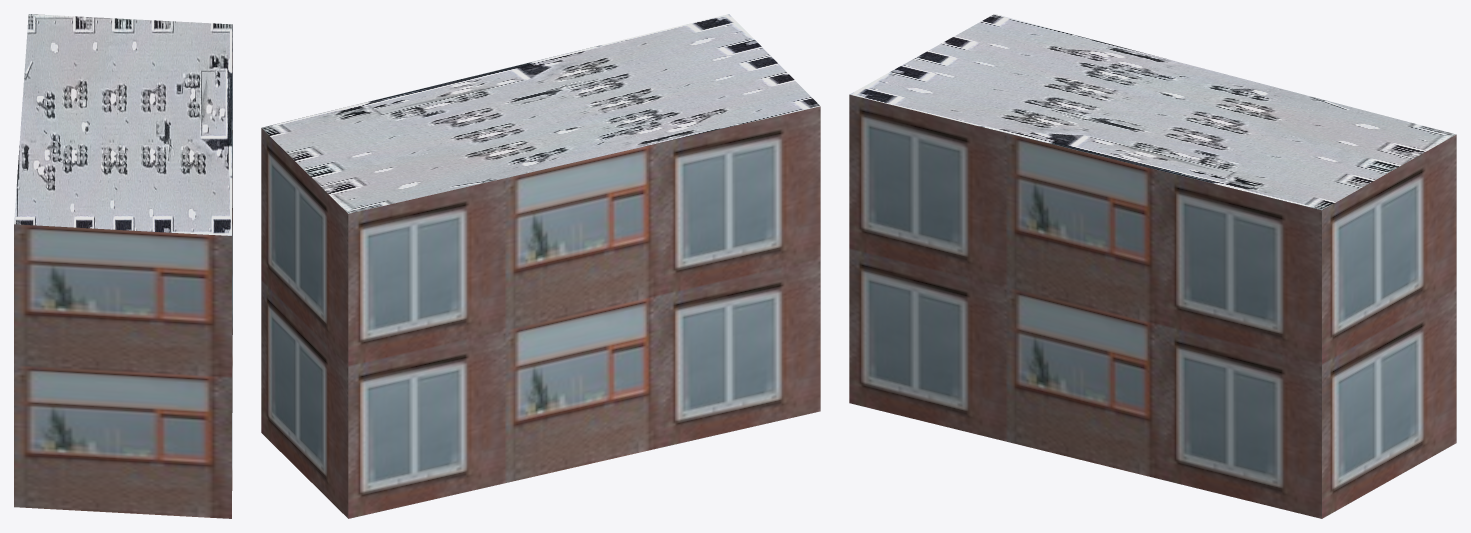
File: ResTex__4095.fbx
3 renders of one model, left to right at view 1: azimuth 30°, elevation 25°; view 2: azimuth 150°, elevation 25°; view 3: azimuth 270°, elevation 25°, orthographic. The views are drawn at different scales.
Visible parts, largest first — view 1: CityEngineMaterial_19_m, CityEngineMaterial_15_m; view 2: CityEngineMaterial_19_m, CityEngineMaterial_15_m; view 3: CityEngineMaterial_19_m, CityEngineMaterial_15_m.
Part boxes in pixels (x1,y1,x2,y2): CityEngineMaterial_19_m: [14, 52, 232, 518]; CityEngineMaterial_15_m: [14, 14, 232, 235]; CityEngineMaterial_19_m: [261, 106, 820, 518]; CityEngineMaterial_15_m: [261, 14, 820, 213]; CityEngineMaterial_19_m: [849, 94, 1456, 518]; CityEngineMaterial_15_m: [849, 14, 1456, 210].
Bounding box in the file's own units: 8.19 × 6 × 10.7.
2 materials, 2 textured.
